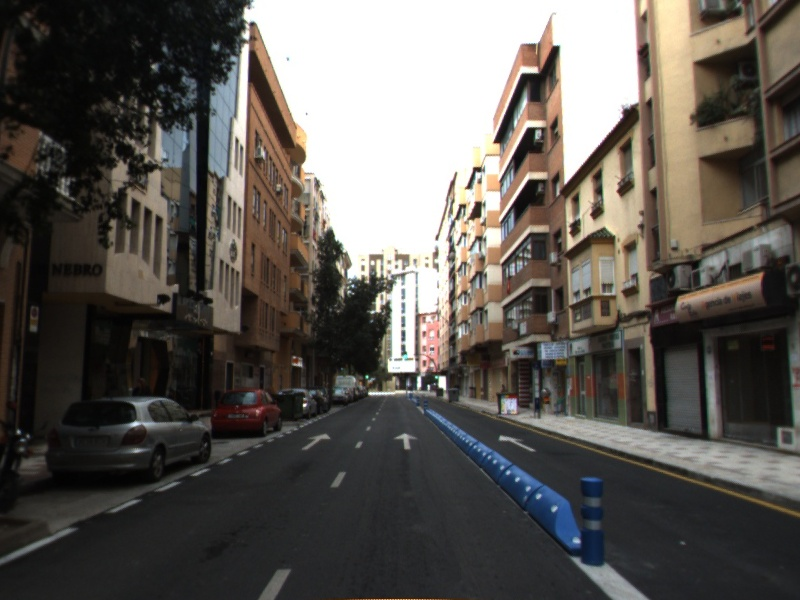STRAIGHT: (497, 433, 538, 453), (300, 431, 332, 452), (392, 431, 420, 451)
